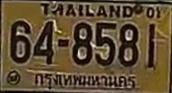1: (148, 23, 154, 67), (148, 24, 154, 68)
4: (34, 20, 54, 63)
5: (95, 22, 116, 65)
6: (10, 20, 30, 62)
8: (118, 23, 137, 66), (72, 22, 91, 64)
BKK: (32, 71, 138, 90)
